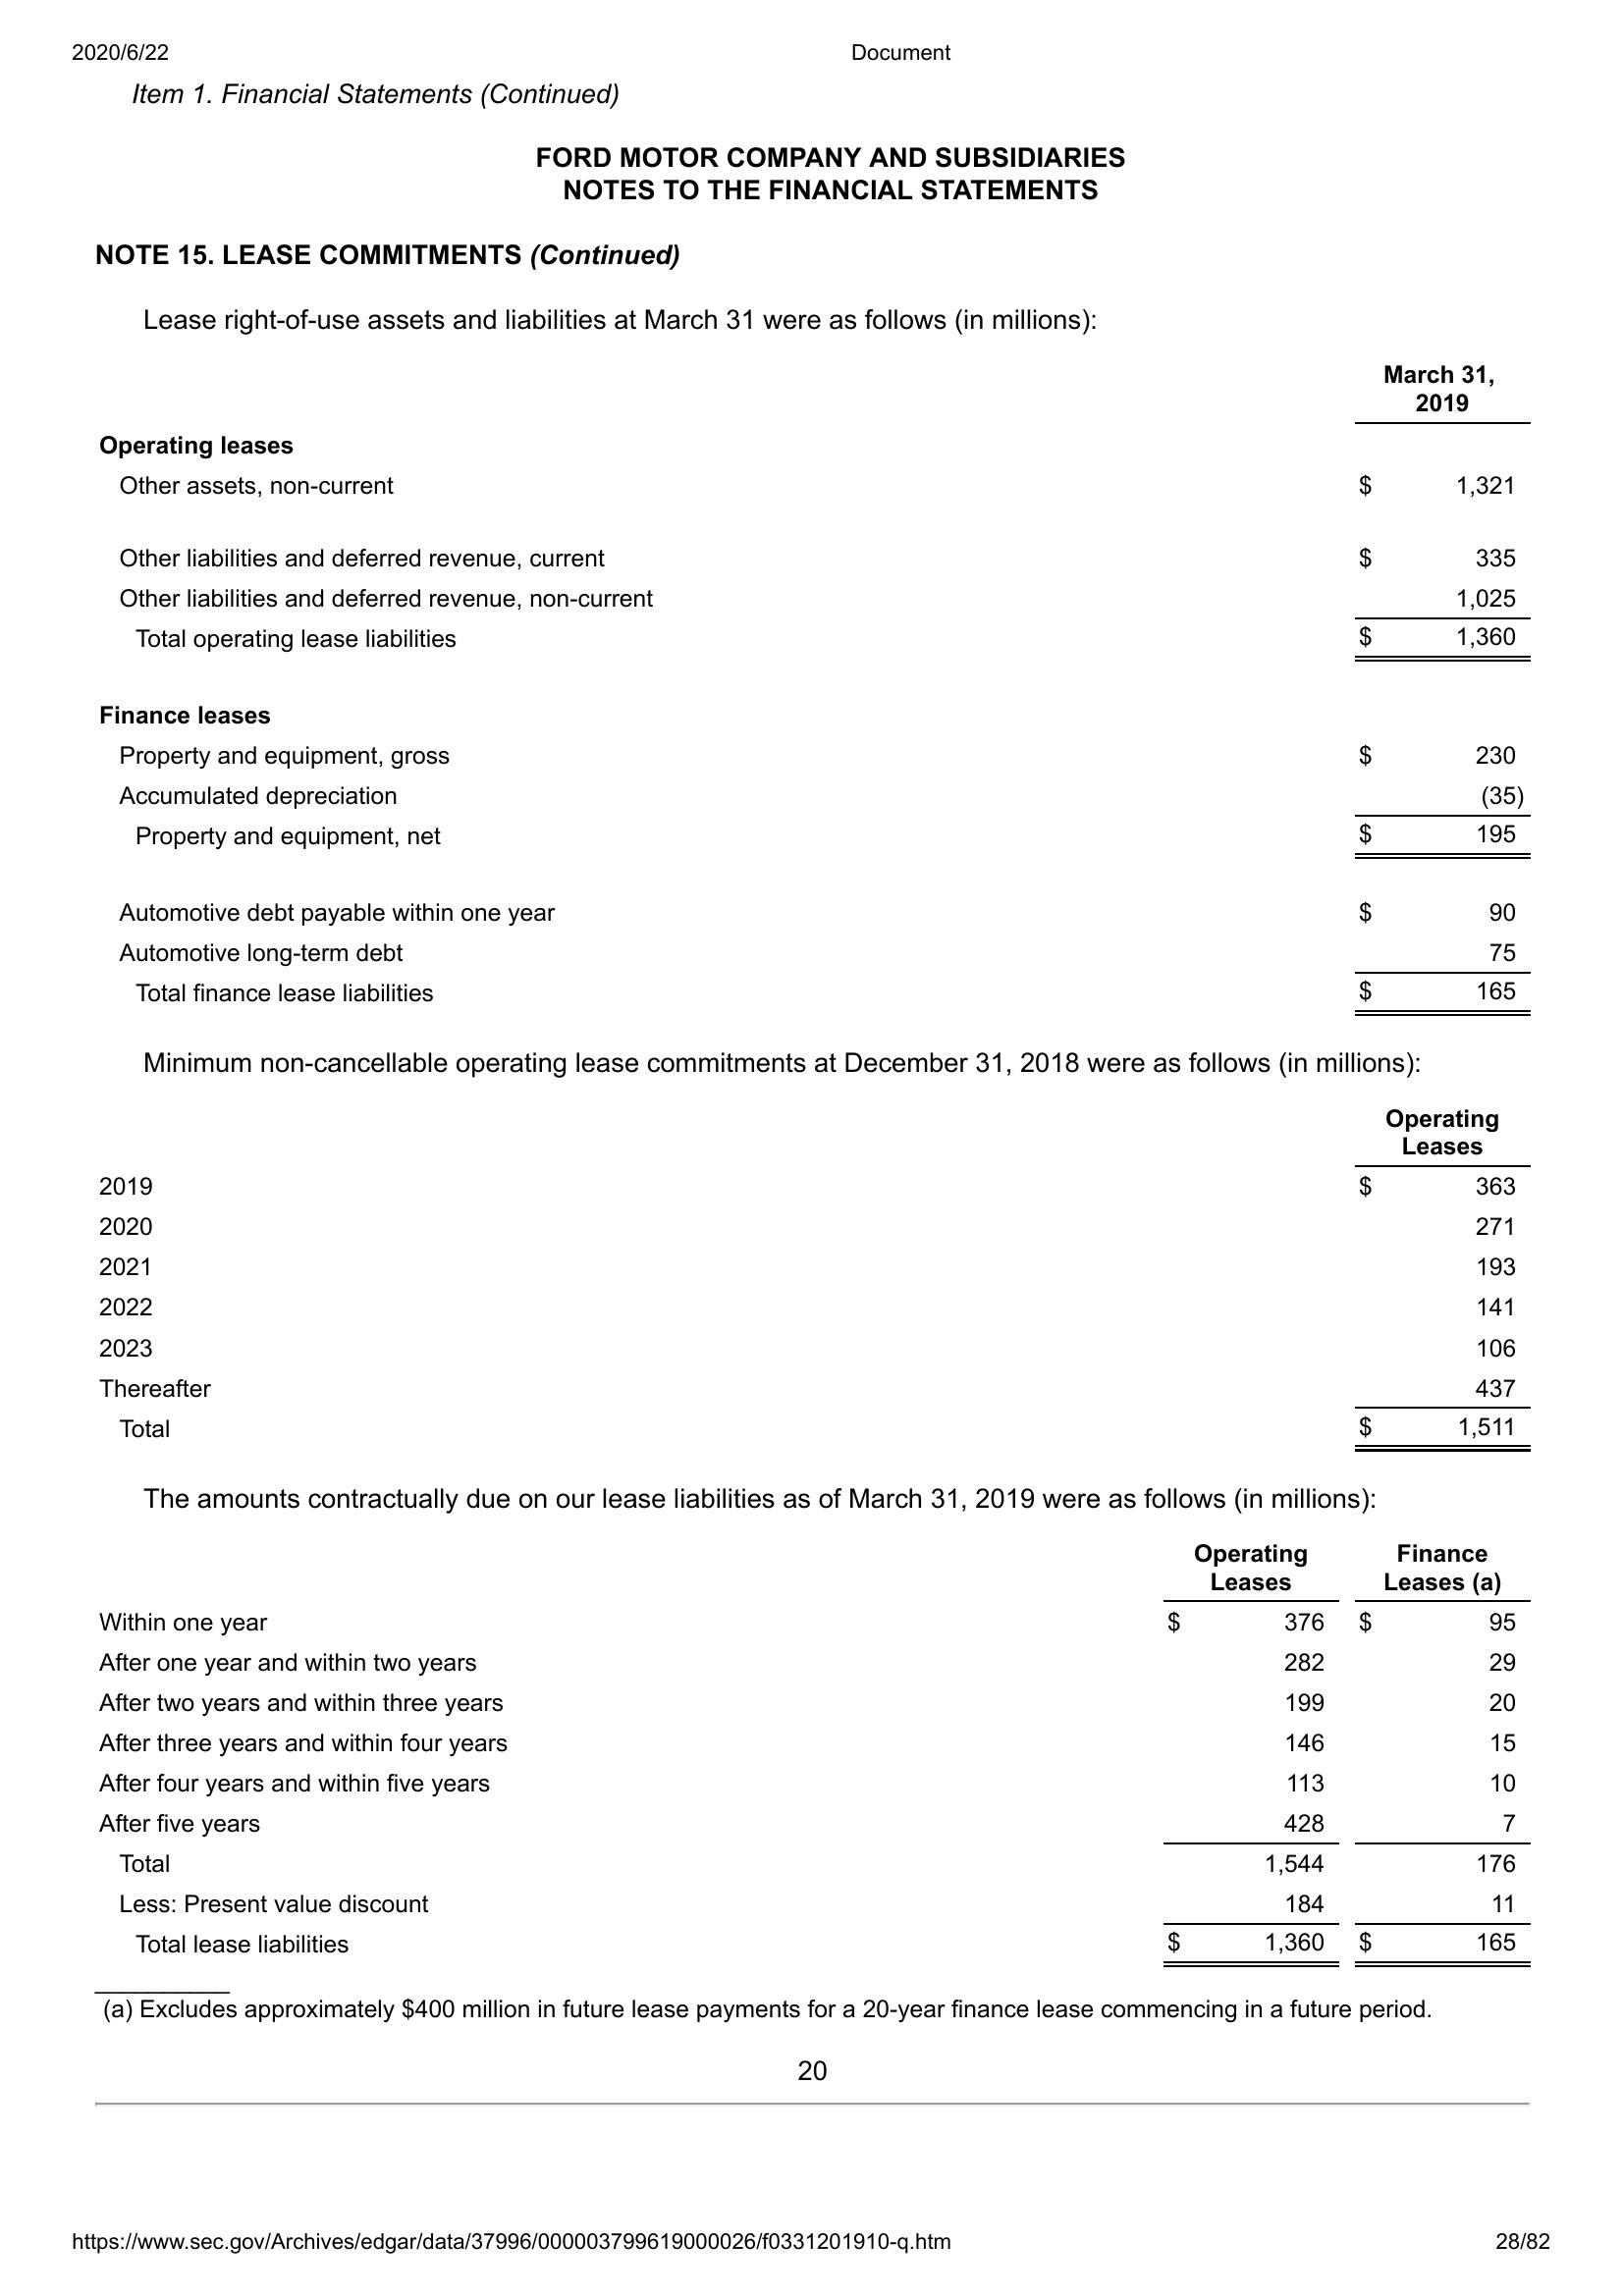table: (88, 360, 1542, 1025), (88, 1531, 1542, 1978), (91, 1095, 1540, 1460)
